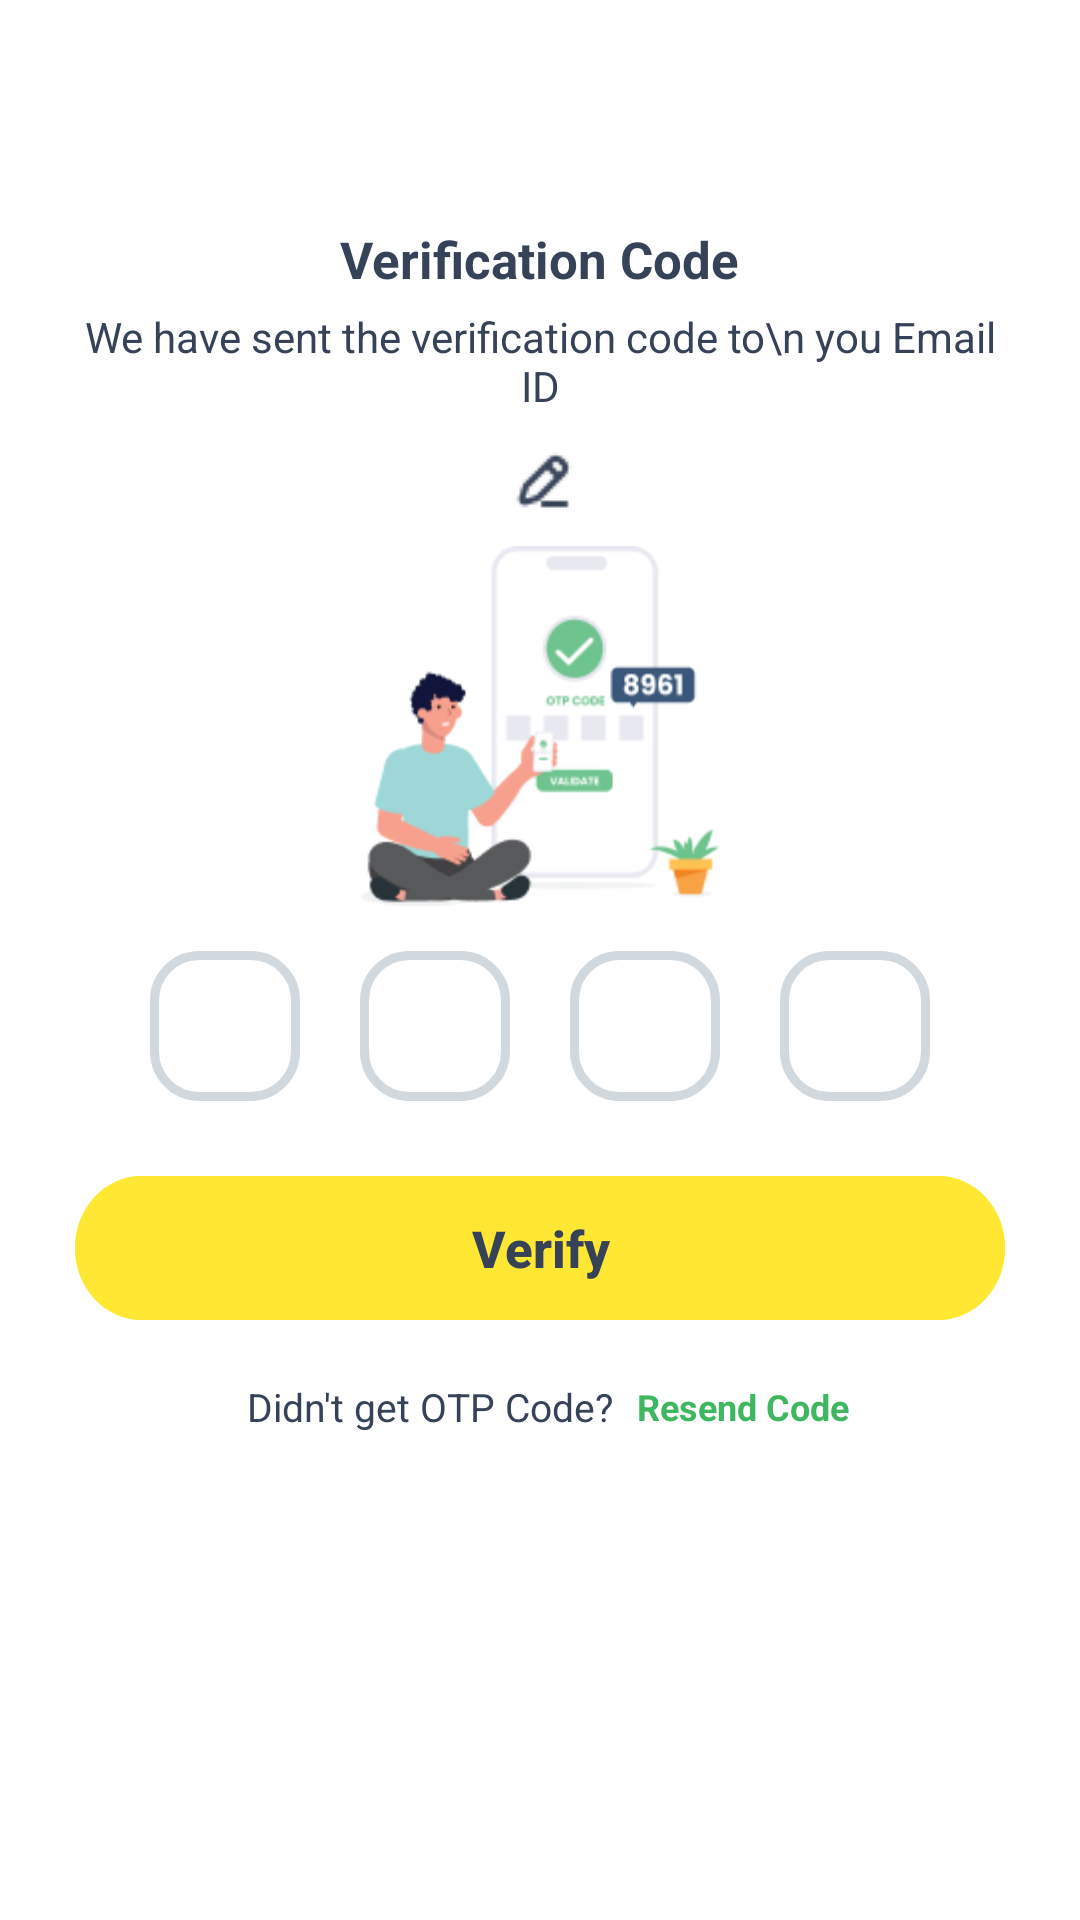

Icon bounding boxes for this 1080px×1920px phone screenshot, format [left=x1, top=y1, right=x2, bottom=y2]:
otp verify: [left=367, top=617, right=718, bottom=903]
